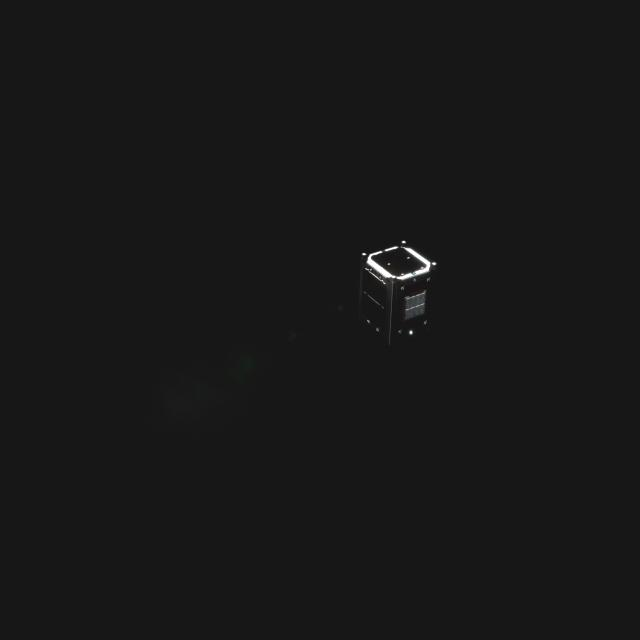satellite: (356, 244, 435, 342)
